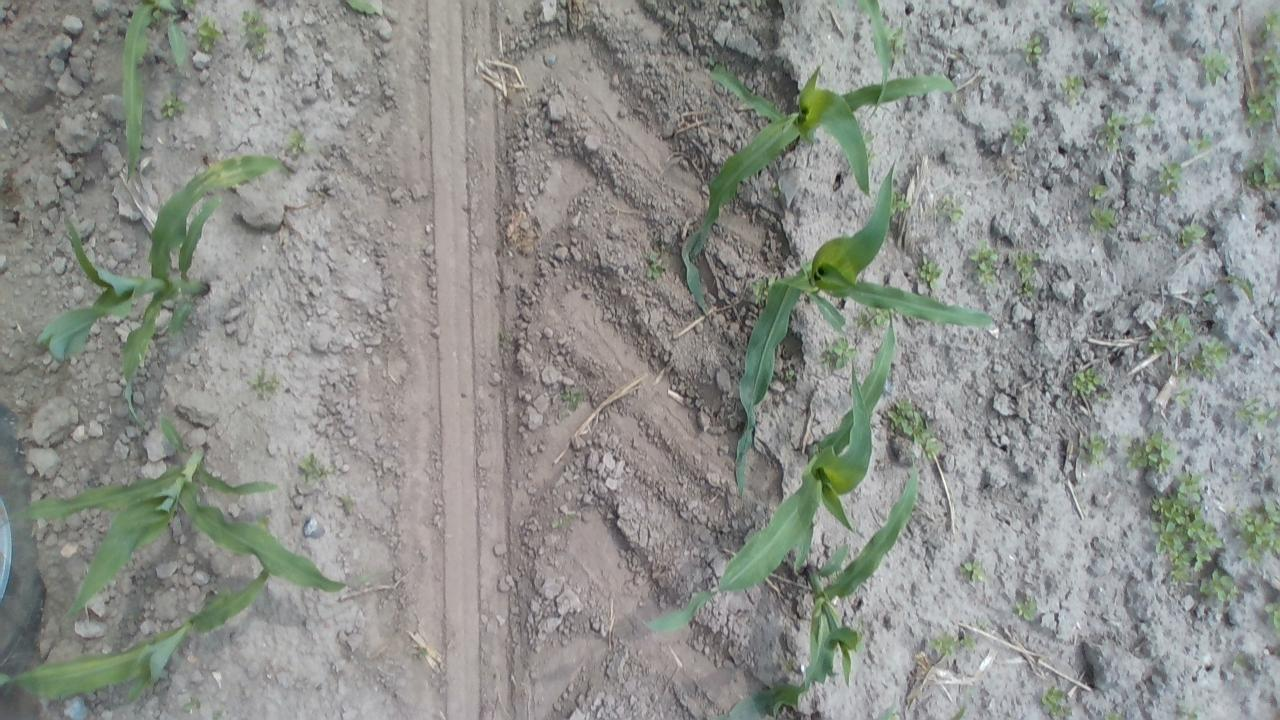Maize: (726, 147, 998, 505), (634, 310, 910, 641), (678, 50, 972, 310), (0, 417, 369, 618), (34, 160, 290, 439), (0, 556, 276, 706), (781, 459, 925, 692), (117, 0, 189, 183), (700, 641, 856, 718), (856, 0, 889, 89), (946, 687, 978, 720), (876, 691, 902, 720), (343, 0, 380, 17)
Weeds: (1149, 474, 1225, 581), (886, 398, 939, 458), (1232, 499, 1278, 564), (1126, 430, 1178, 474), (1143, 313, 1191, 356), (1183, 338, 1229, 378), (1251, 43, 1280, 101), (969, 238, 1000, 288), (1242, 145, 1277, 189), (1198, 565, 1238, 602), (1241, 88, 1276, 130), (1164, 377, 1206, 411), (240, 11, 271, 56), (822, 335, 858, 373), (1232, 397, 1274, 428), (1198, 50, 1232, 88), (193, 14, 225, 54), (1038, 684, 1073, 720), (1096, 111, 1128, 150), (1013, 251, 1039, 296), (1069, 366, 1103, 400), (248, 366, 282, 400), (1084, 203, 1118, 235), (298, 452, 328, 488), (934, 193, 966, 225), (1176, 222, 1212, 249), (1155, 160, 1182, 196), (1076, 431, 1105, 464), (856, 304, 890, 330), (919, 253, 944, 288), (1020, 35, 1047, 67), (1167, 376, 1194, 408), (1059, 73, 1086, 105), (559, 384, 588, 413), (924, 634, 959, 658), (1084, 1, 1112, 31), (1221, 272, 1255, 296), (284, 129, 312, 157), (1006, 118, 1031, 149), (643, 249, 668, 280), (957, 557, 985, 584), (158, 89, 184, 118), (548, 511, 581, 532), (1014, 596, 1040, 622), (888, 26, 908, 59), (1258, 10, 1276, 44), (1193, 133, 1216, 157), (1174, 701, 1204, 719), (752, 276, 772, 301), (892, 192, 911, 217), (179, 695, 203, 713), (1138, 112, 1158, 132), (1263, 600, 1276, 630), (1087, 182, 1109, 199), (1229, 654, 1252, 670), (338, 494, 355, 515), (1102, 706, 1127, 720), (496, 329, 511, 352), (863, 132, 877, 156), (1202, 285, 1220, 303), (1098, 387, 1116, 404), (769, 180, 784, 200), (782, 365, 796, 386), (960, 633, 976, 649), (416, 645, 431, 661), (782, 657, 794, 672), (212, 708, 226, 718), (181, 1, 197, 8)
